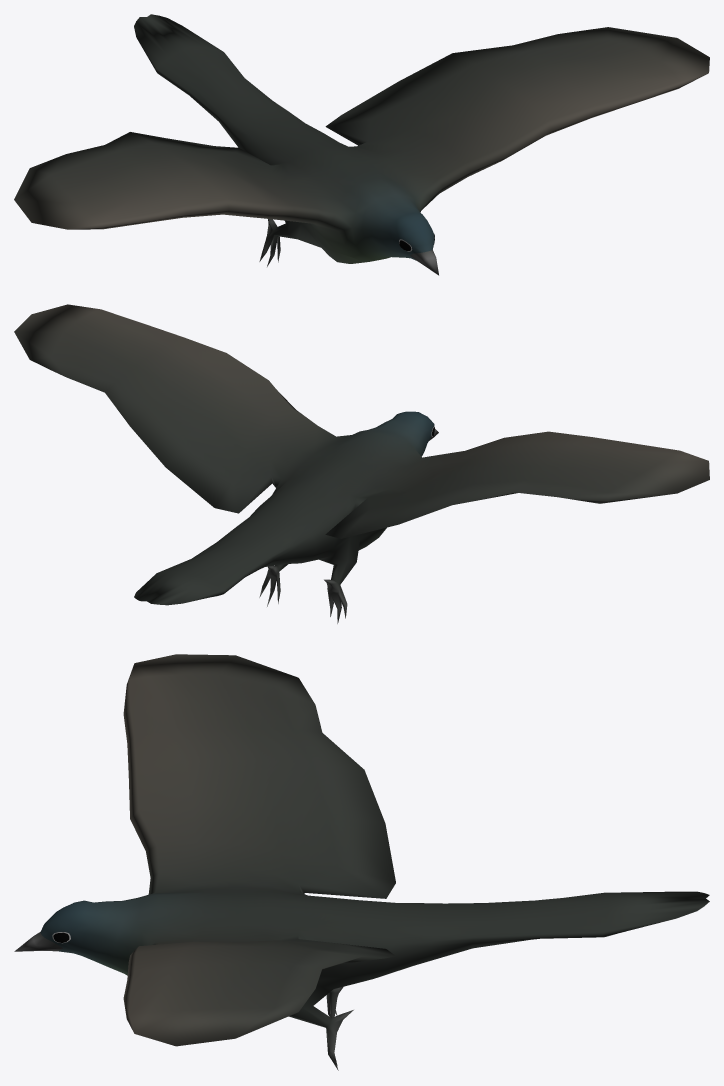
Rendered from animals-birds-grackle_v1.glb.
3 renders of one model, top to bottom at view 1: azimuth 30°, elevation 25°; view 2: azimuth 150°, elevation 25°; view 3: azimuth 270°, elevation 25°, orthographic. The views are drawn at different scales.
Visible parts, largest first — view 1: Grackle.001; view 2: Grackle.001; view 3: Grackle.001.
Boxes of the visible parts, <box> form: Grackle.001: <box>14,14,709,275</box>; Grackle.001: <box>14,304,709,623</box>; Grackle.001: <box>14,654,709,1070</box>.
Bounding box in the file's own units: 0.9077 × 0.2261 × 0.6809.
